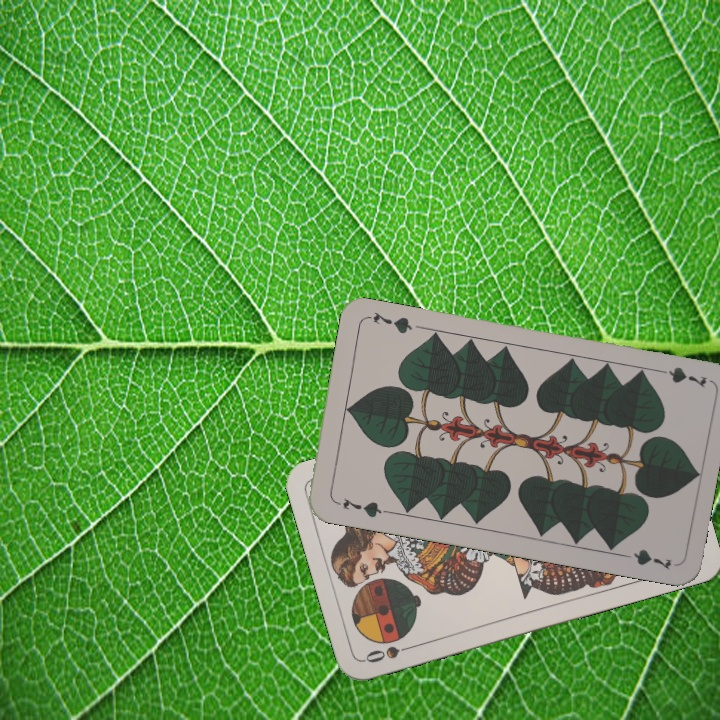G7: (331, 494, 390, 521), (650, 363, 709, 390)
SO: (361, 640, 419, 666)
